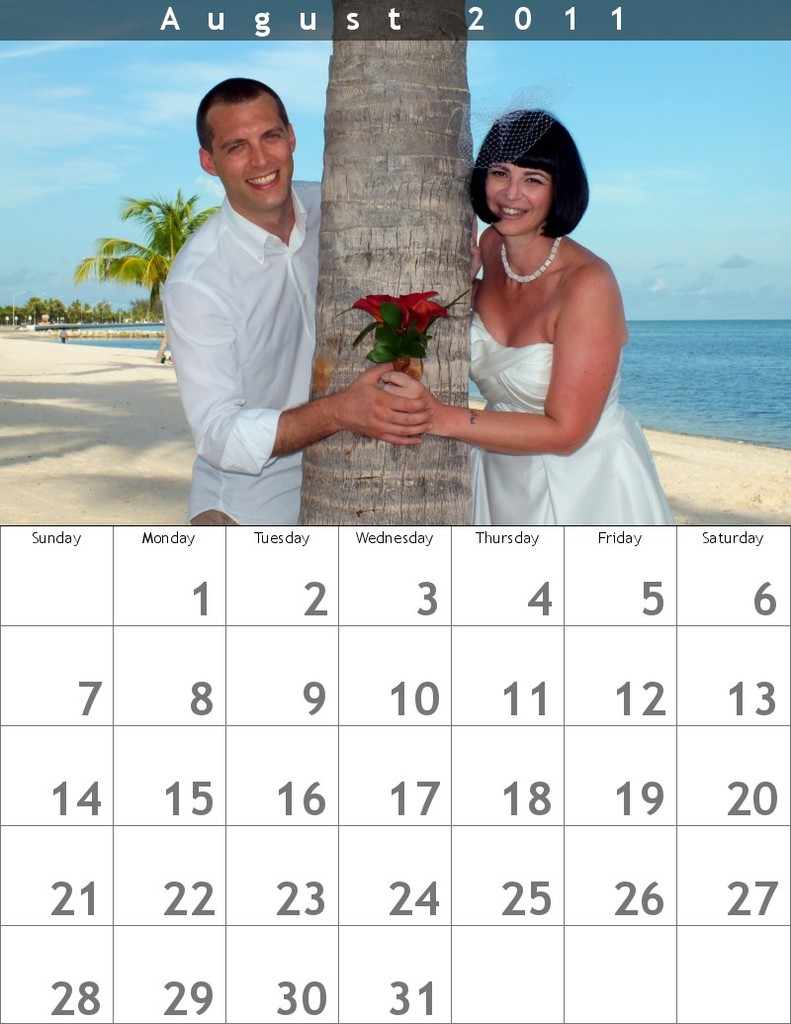person: (160, 74, 435, 524)
